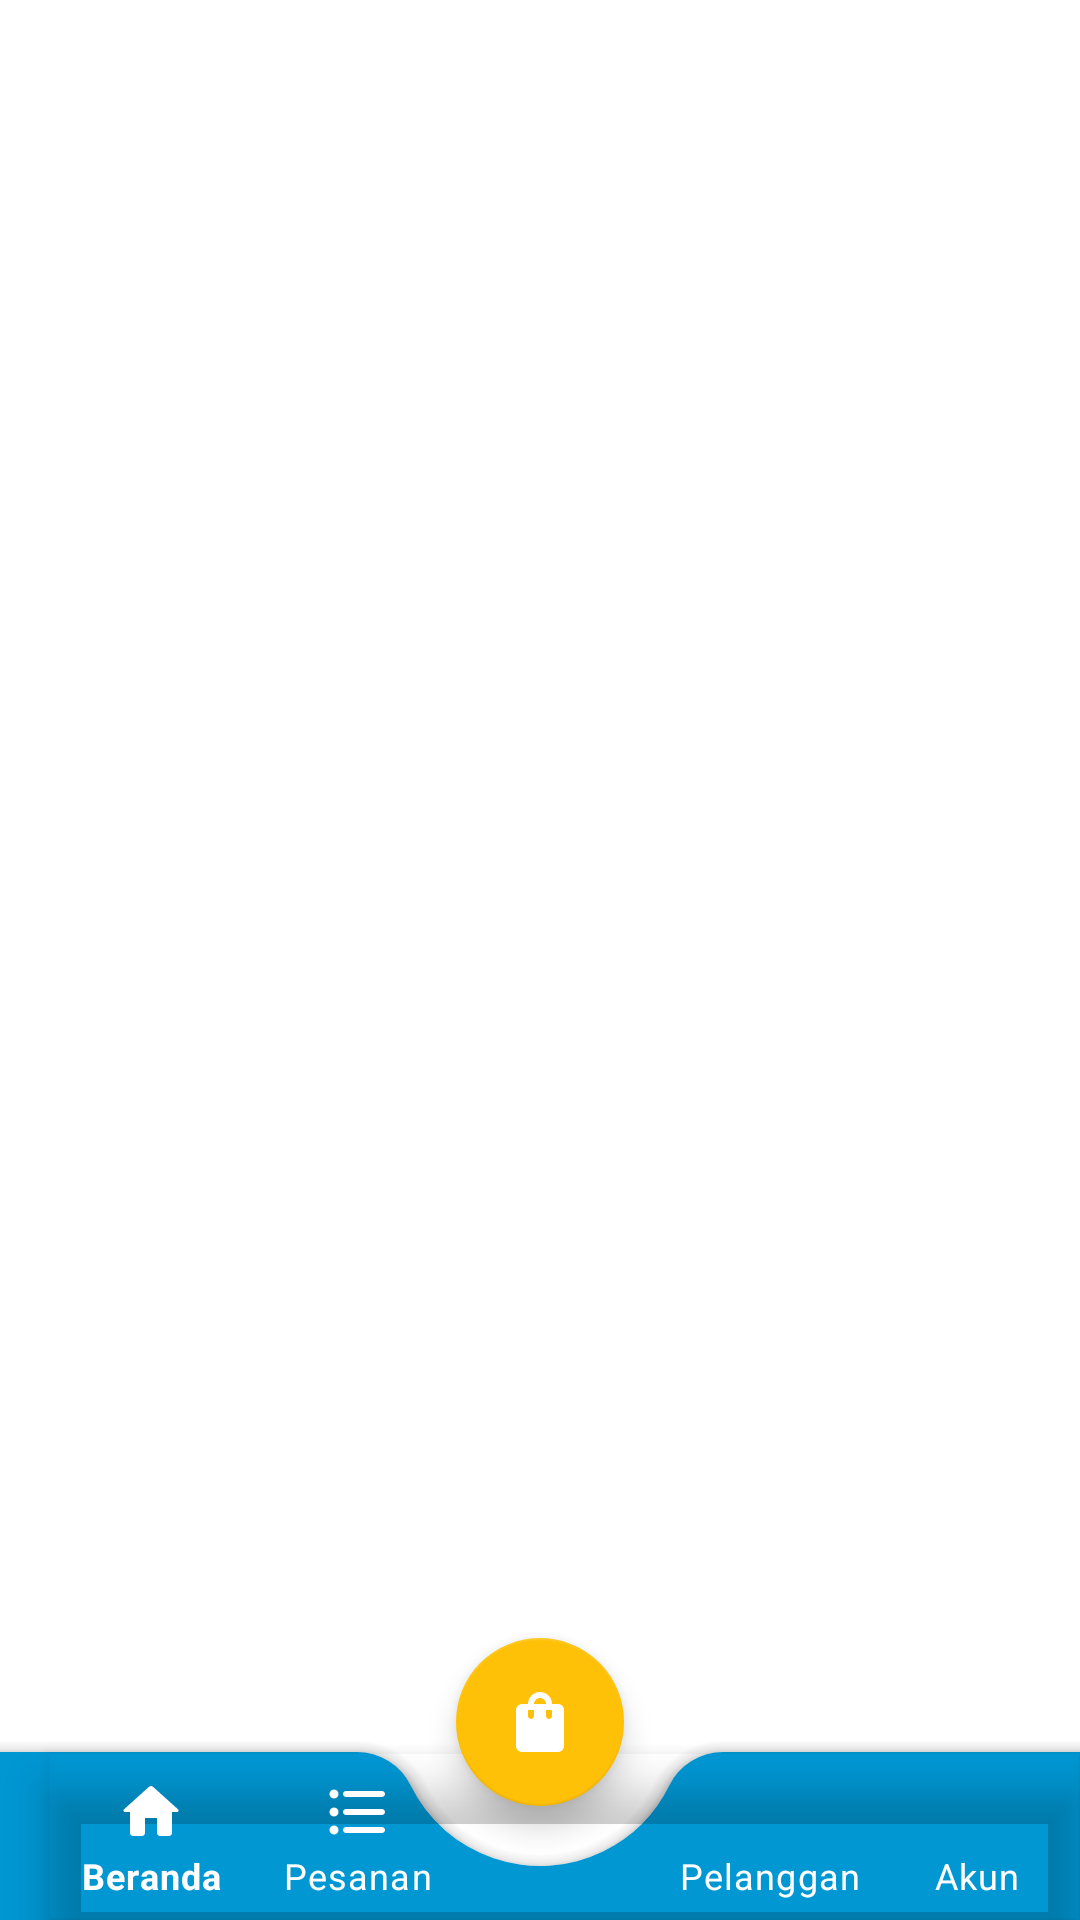

Screen size 1080 × 1920. Icon name, then its center in pixels as (x,y):
shopping bag: (540,1746)
